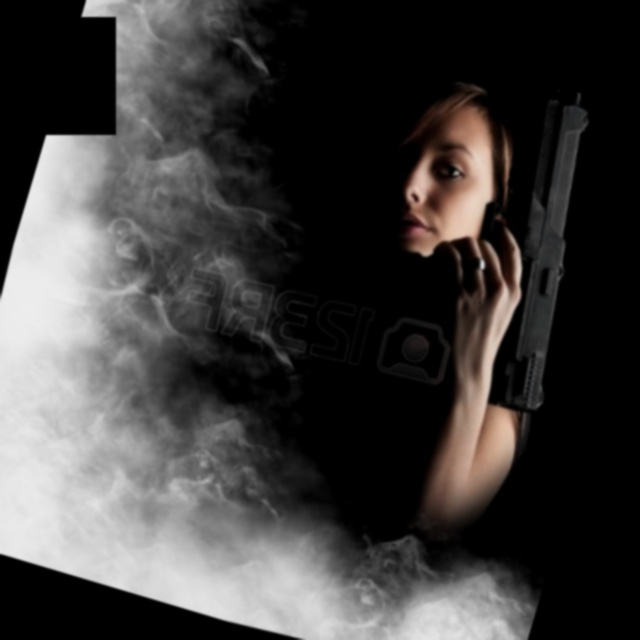gun: (377, 51, 640, 425)
